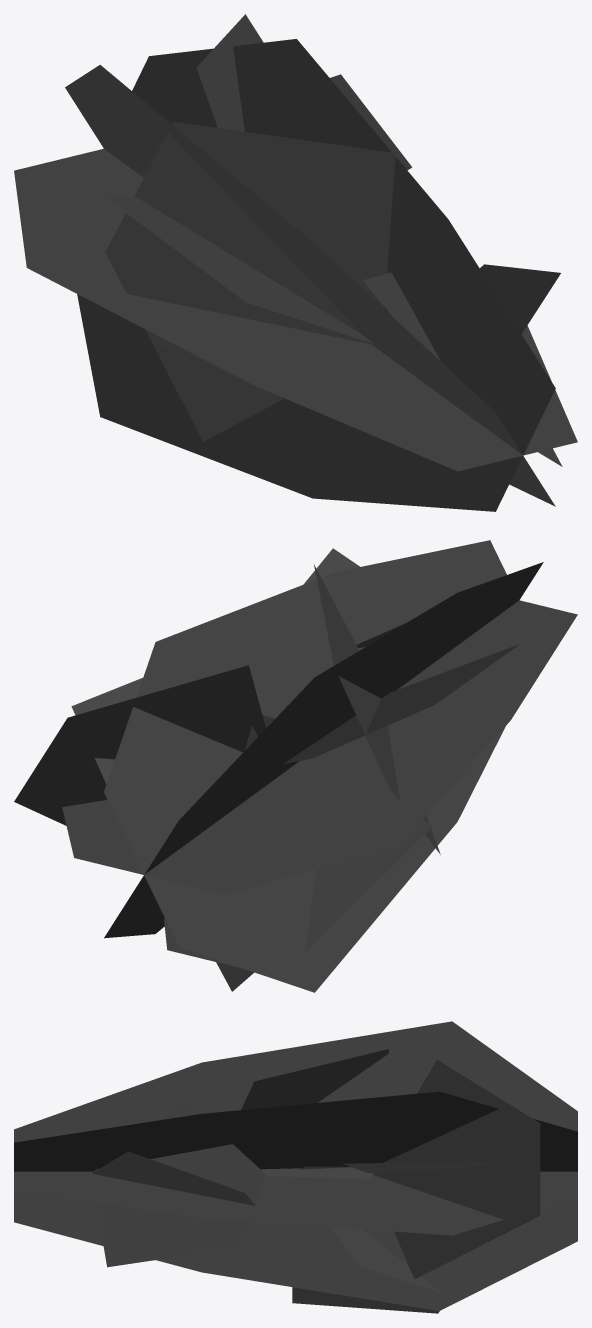
3 renders of one model, top to bottom at view 1: azimuth 30°, elevation 25°; view 2: azimuth 150°, elevation 25°; view 3: azimuth 270°, elevation 25°, orthographic. The views are drawn at different scales.
Visible parts, largest first — view 1: world; view 2: world; view 3: world.
Boxes of the visible parts, <box> form: world: <box>14,14,577,511</box>; world: <box>14,540,577,992</box>; world: <box>14,1021,577,1313</box>.
Bounding box in the file's own units: 66 × 64.74 × 128.
1 material, 1 textured.
